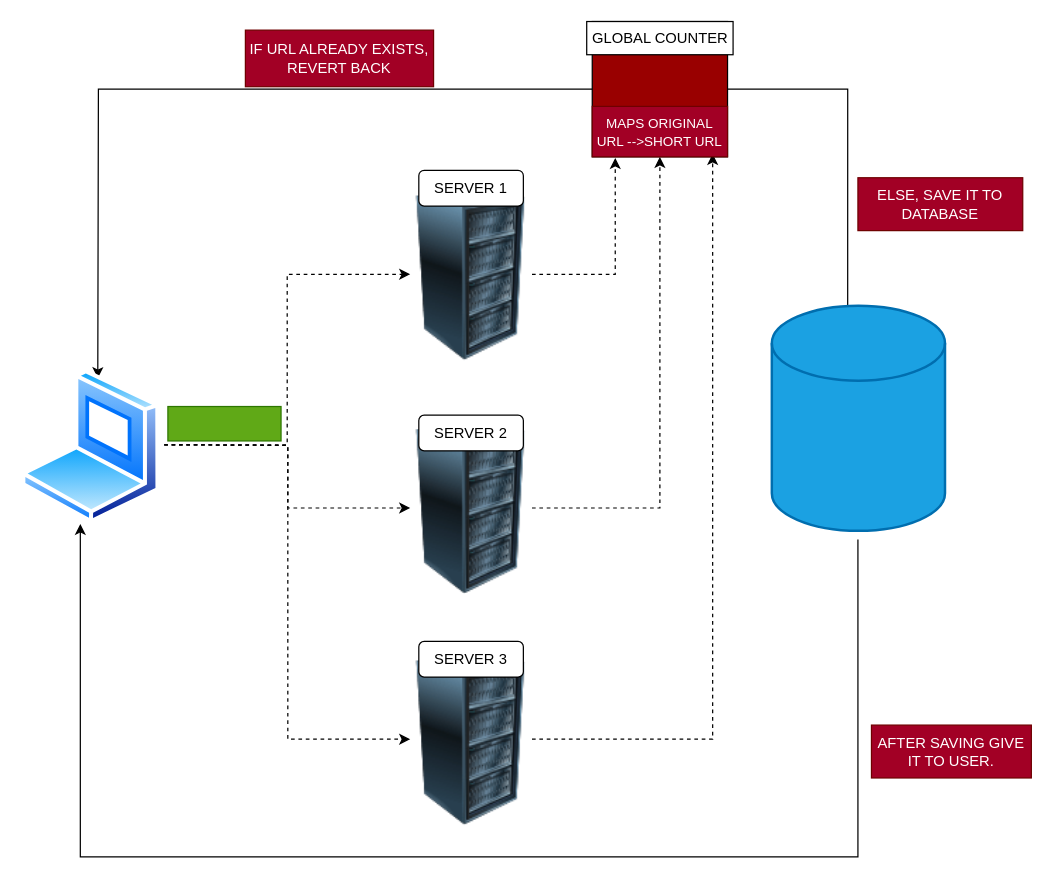
The diagram is 1053 pixels wide and 889 high, and some of its shapes have lost their labels. Each missing label, with the box of its shape:
REDIS_CACHE: (591, 20, 728, 157)
URL REQUEST: (167, 405, 281, 441)
